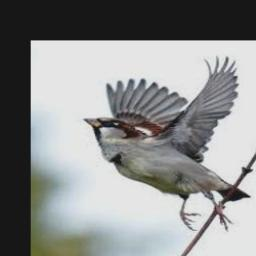Sparrow: (83, 55, 250, 230)
